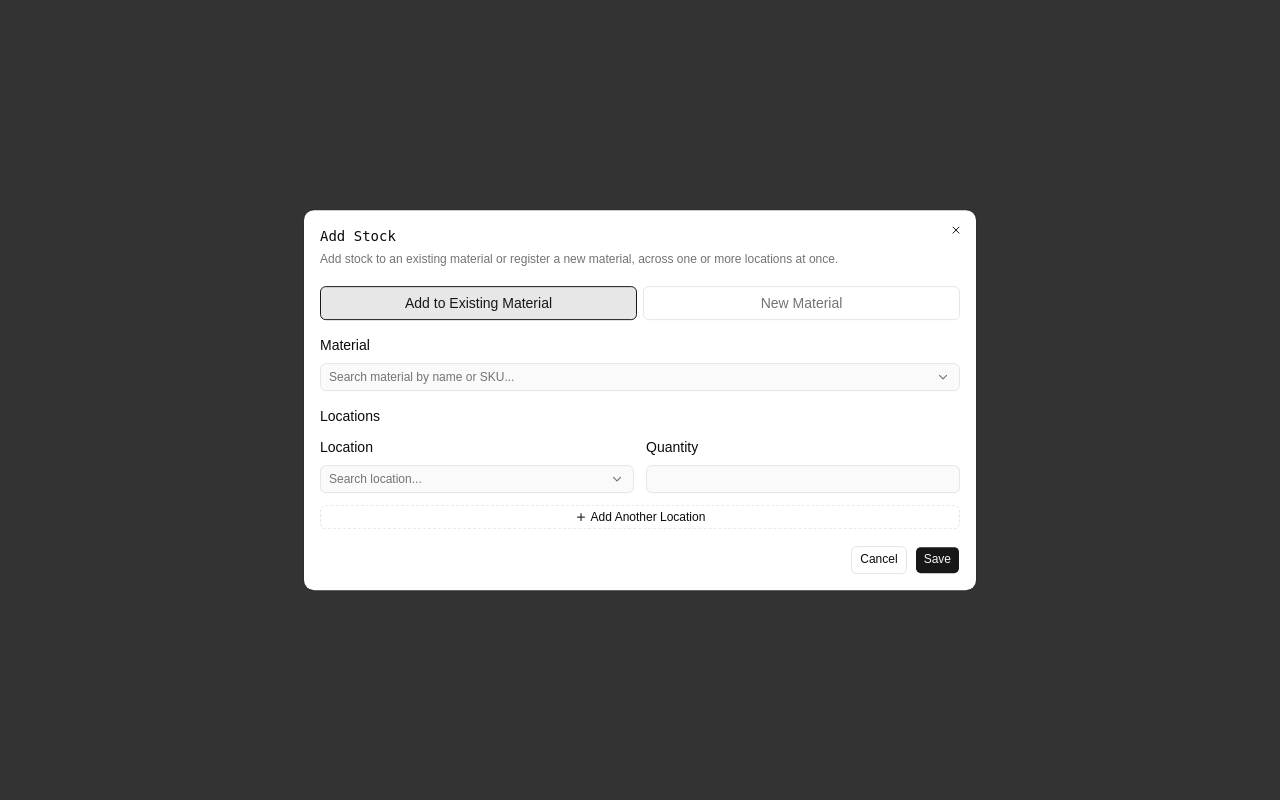
Test: AddStockDialog › lists materials with their SKU when present
Press the mouse on the dropdown with placeholder "Search material by name or SKU...": (626, 377) [321,363,931,391]
Press the mouse on the dropdown with placeholder "Search material by name or SKU...": (626, 377) [321,363,931,391]
Click the dropdown with placeholder "Search material by name or SKU...": click(626, 377) [321,363,931,391]
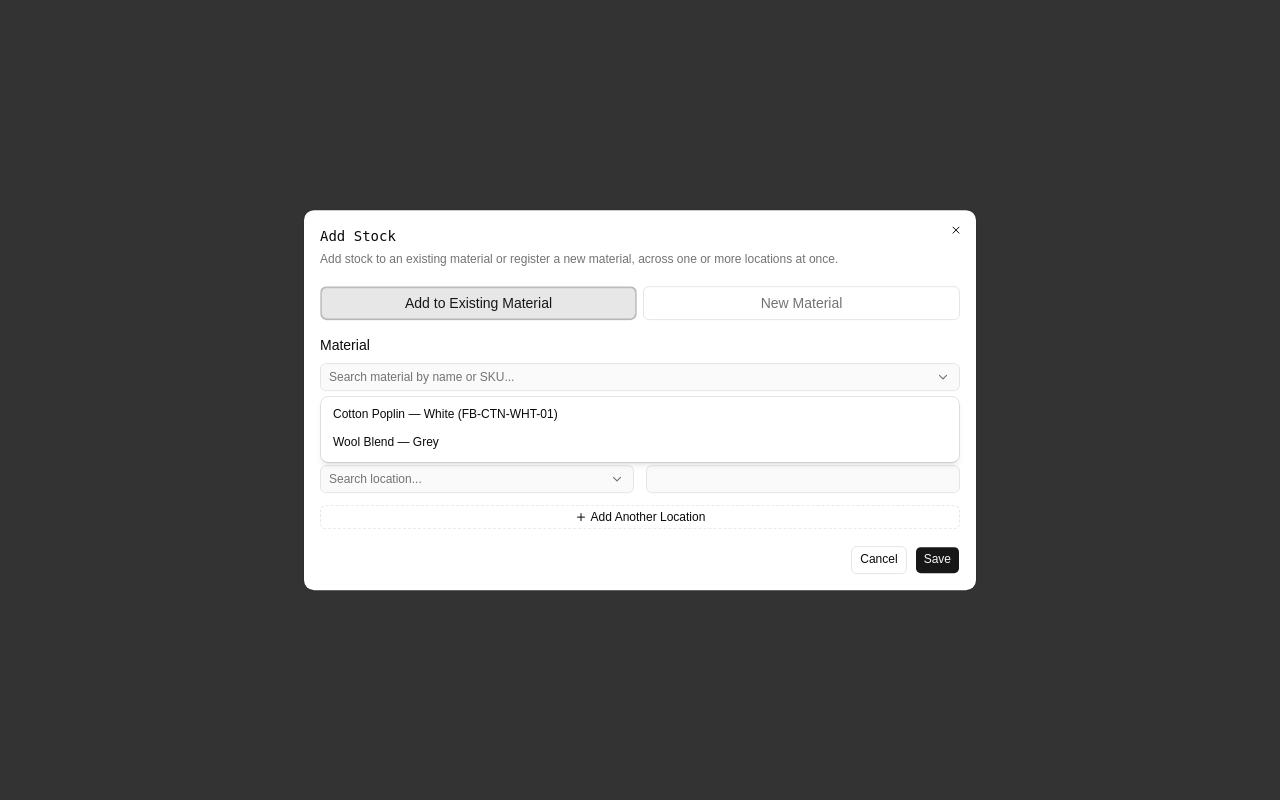
Expected: the option "Cotton Poplin — White (FB-CTN-WHT-01)" is shown, [333,407,558,421]
Expected: the option "Wool Blend — Grey" is shown, [333,435,439,449]
